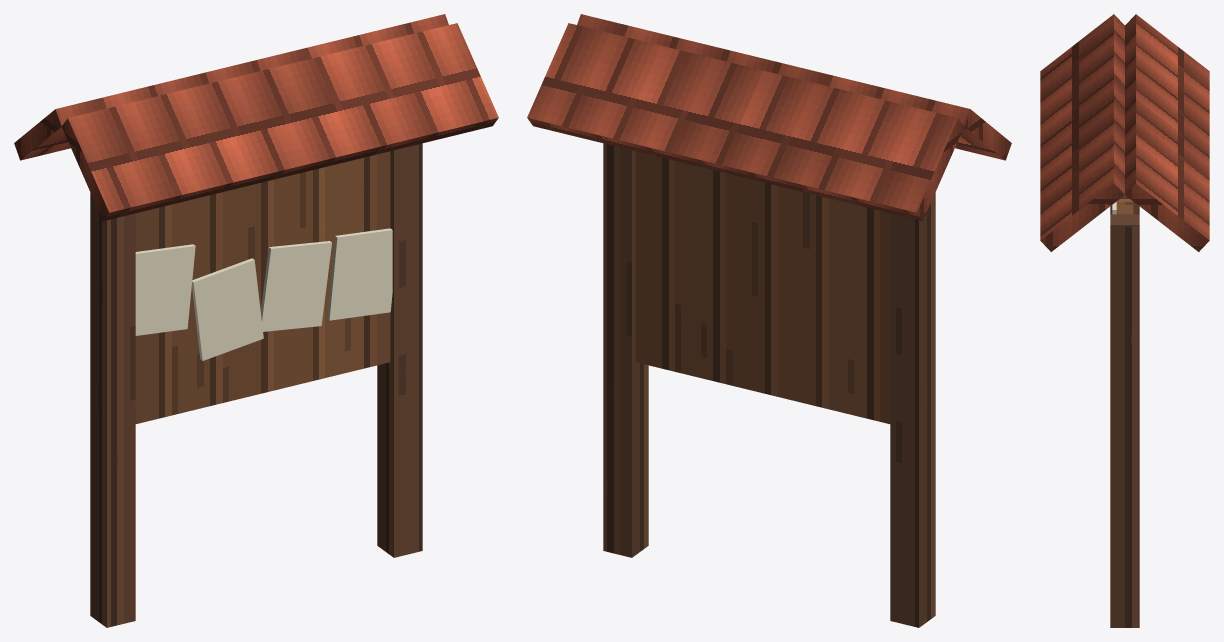
File: notice.glb
3 renders of one model, left to right at view 1: azimuth 30°, elevation 25°; view 2: azimuth 150°, elevation 25°; view 3: azimuth 270°, elevation 25°, orthographic. The views are drawn at different scales.
Parts seen in each view (by area): view 1: Notice; view 2: Notice; view 3: Notice.
Part boxes in pixels (left/top/right/bottom): Notice: left=14, top=14, right=498, bottom=627; Notice: left=527, top=14, right=1011, bottom=627; Notice: left=1040, top=14, right=1209, bottom=627.
Bounding box in the file's own units: 1.9 × 2.41 × 0.8041.
4 materials, 3 textured.
